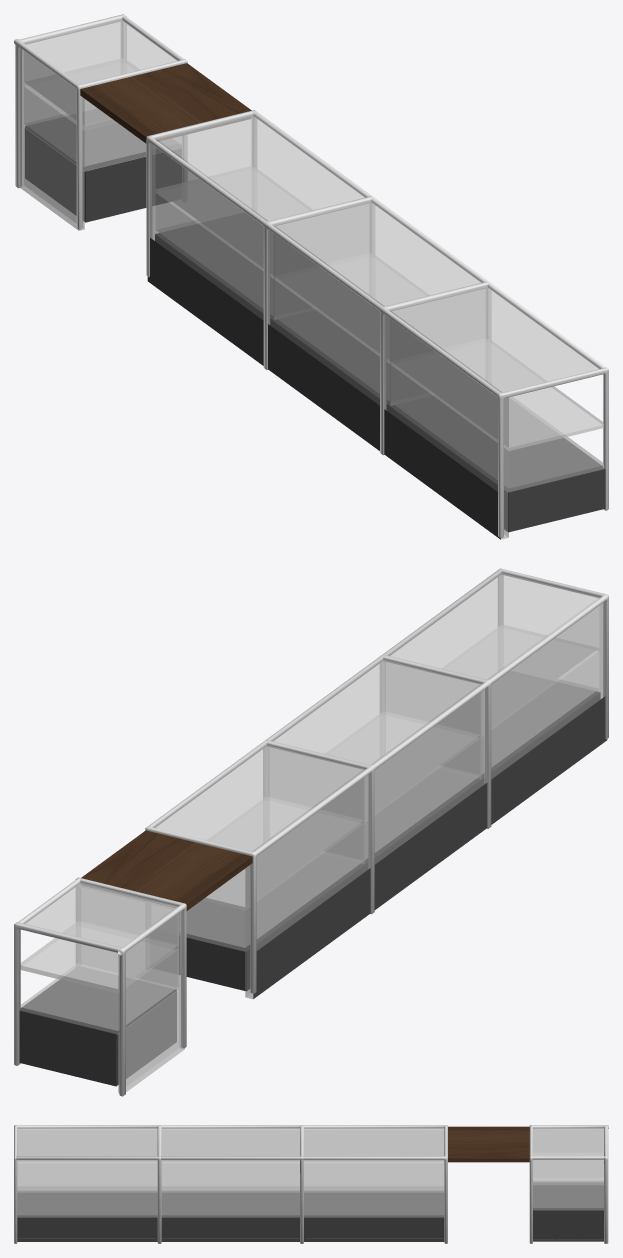
File: Vitrina.fbx
3 views of the same model, one above another, from view 1: azimuth 30°, elevation 25°; view 2: azimuth 150°, elevation 25°; view 3: azimuth 270°, elevation 25° (orthographic). The views are drawn at different scales.
Visible parts, largest first — view 1: Cube.105; view 2: Cube.105; view 3: Cube.105.
Part boxes in pixels (x1,y1,x2,y2): Cube.105: (14,14,608,539); Cube.105: (14,568,608,1096); Cube.105: (14,1125,608,1243).
Bounding box in the file's own units: 102 × 130 × 780.
4 materials, 1 textured.
